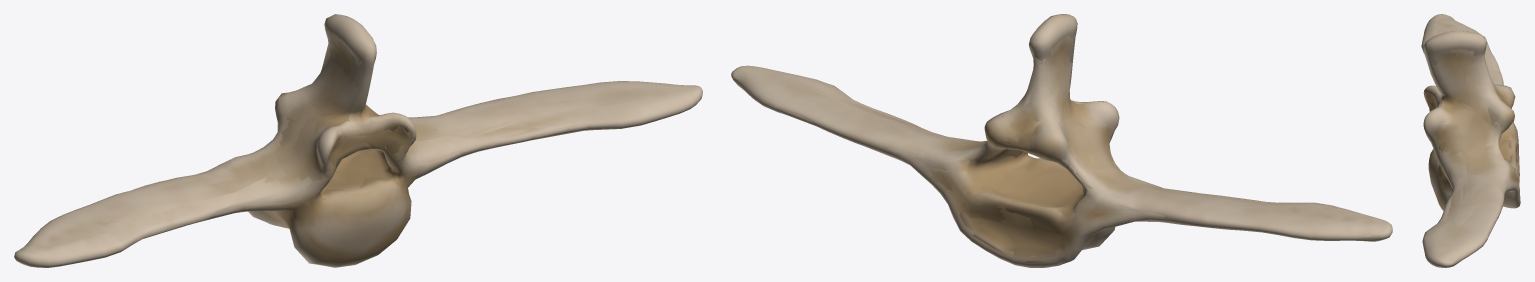
Rendered from vertebrae lumbales 2.fbx.
3 views of the same model, side by side, from view 1: azimuth 30°, elevation 25°; view 2: azimuth 150°, elevation 25°; view 3: azimuth 270°, elevation 25° (orthographic). The views are drawn at different scales.
Parts seen in each view (by area): view 1: vertebrae lumbales 2, vertebrae lumbales 2 low; view 2: vertebrae lumbales 2, vertebrae lumbales 2 low; view 3: vertebrae lumbales 2, vertebrae lumbales 2 low.
Part boxes in pixels (x1,y1,x2,y2): vertebrae lumbales 2: (14,14,702,267); vertebrae lumbales 2 low: (23,36,680,247); vertebrae lumbales 2: (731,14,1392,267); vertebrae lumbales 2 low: (734,33,1375,262); vertebrae lumbales 2: (1421,14,1520,267); vertebrae lumbales 2 low: (1426,18,1519,262).
Size of the model in its own units: 32.59 by 11.05 by 5.47.
1 material, 1 textured.
